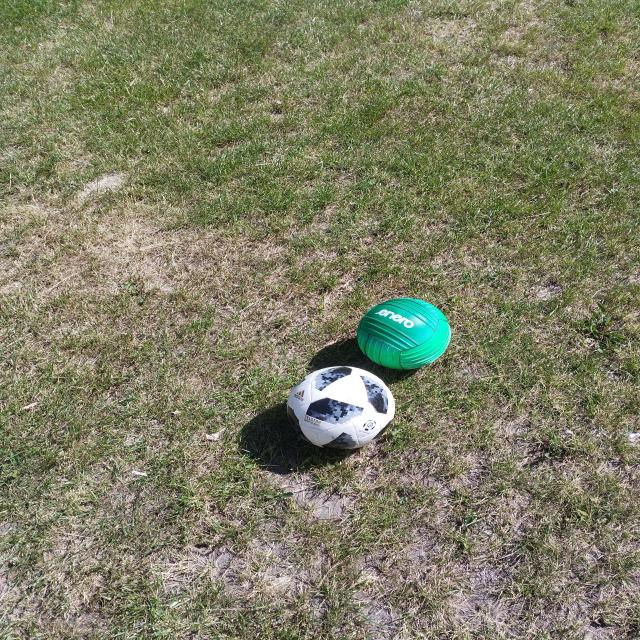nozna: (287, 366, 395, 449)
zielona: (357, 298, 451, 369)
